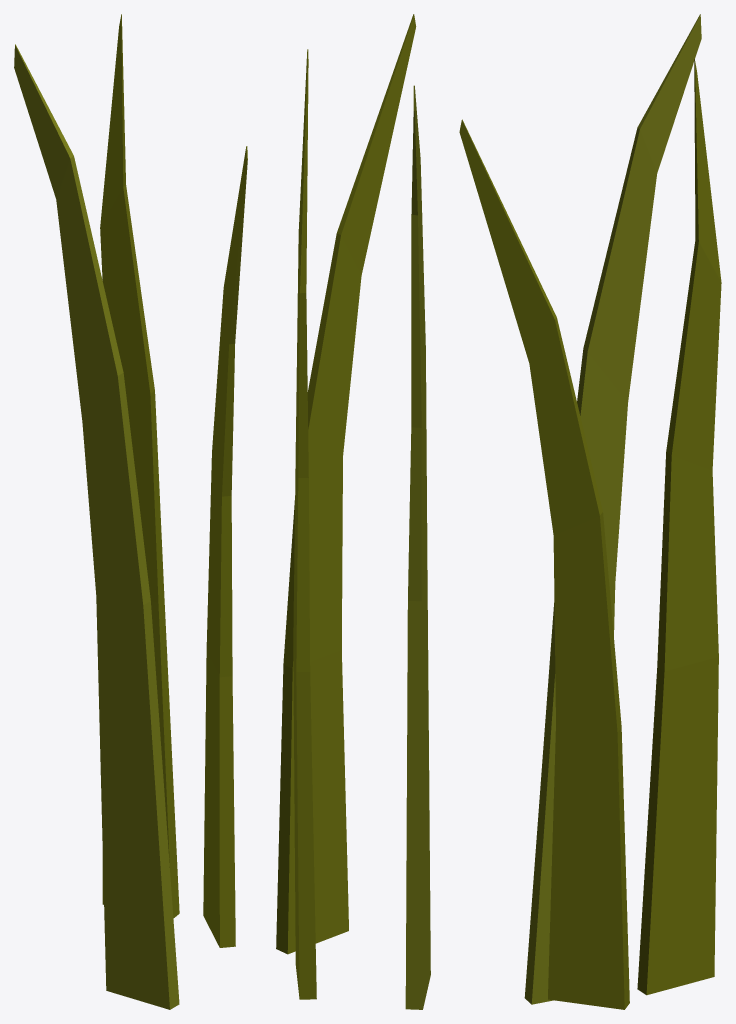
File: PrairieGrass(5).fbx
3 views of the same model, side by side, from view 1: azimuth 30°, elevation 25°; view 2: azimuth 150°, elevation 25°; view 3: azimuth 270°, elevation 25° (orthographic). The views are drawn at different scales.
Visible parts, largest first — view 1: PrairieGrass(5); view 2: PrairieGrass(5); view 3: PrairieGrass(5).
Boxes of the visible parts, x1,y1,x2,y2 form: PrairieGrass(5): (14, 14, 247, 1009); PrairieGrass(5): (276, 14, 430, 1009); PrairieGrass(5): (459, 14, 721, 1009).
Bounding box in the file's own units: 0.3147 × 1.66 × 0.412.
